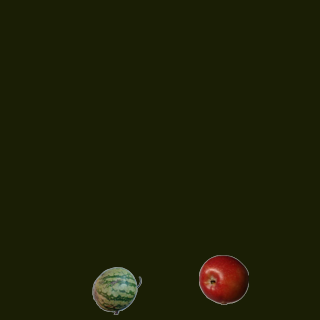Apple Braeburn: (198, 254, 248, 304)
Watermelon: (91, 265, 141, 315)
